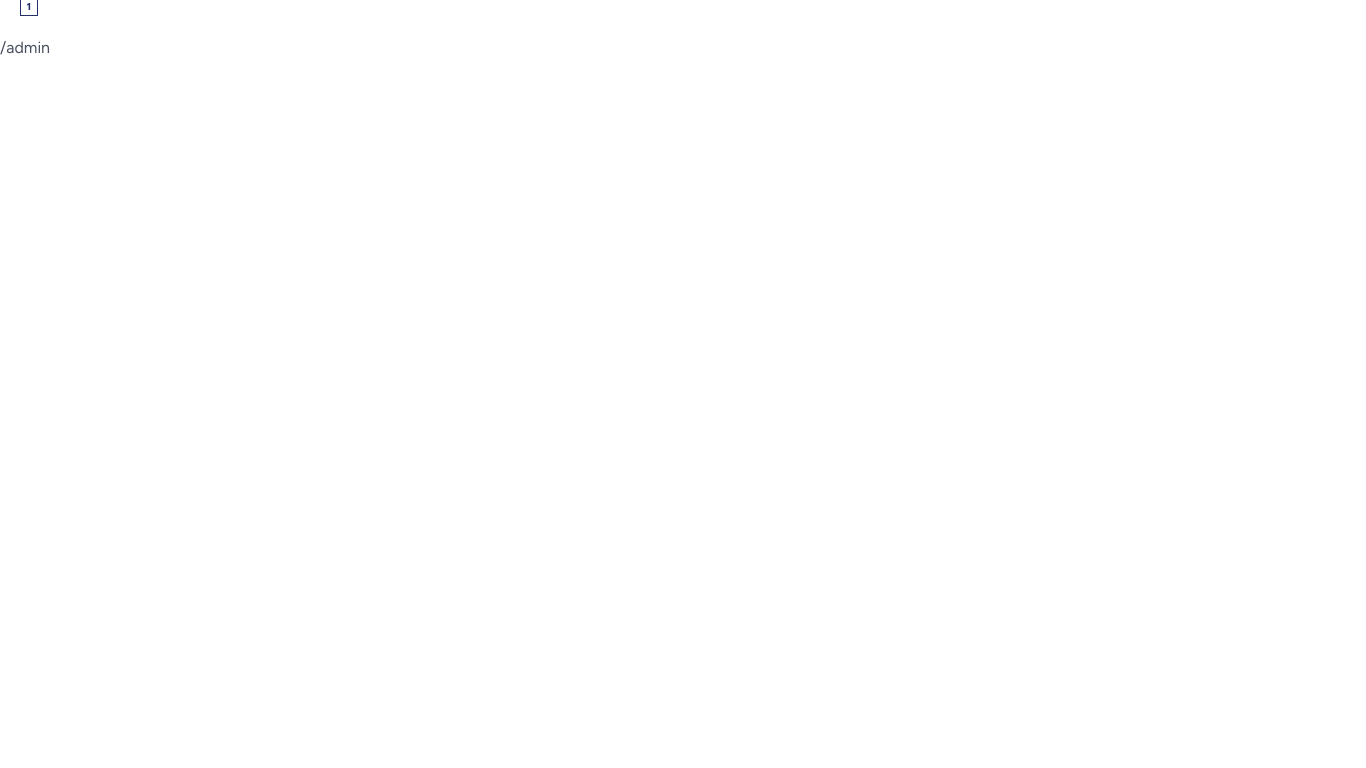
Scenario: NotificationBell › counts unread, and opening one marks it read and follows its link
Click the button named "Notifications, 1 unread".
click(18, 18)  # box [0,0,36,36]
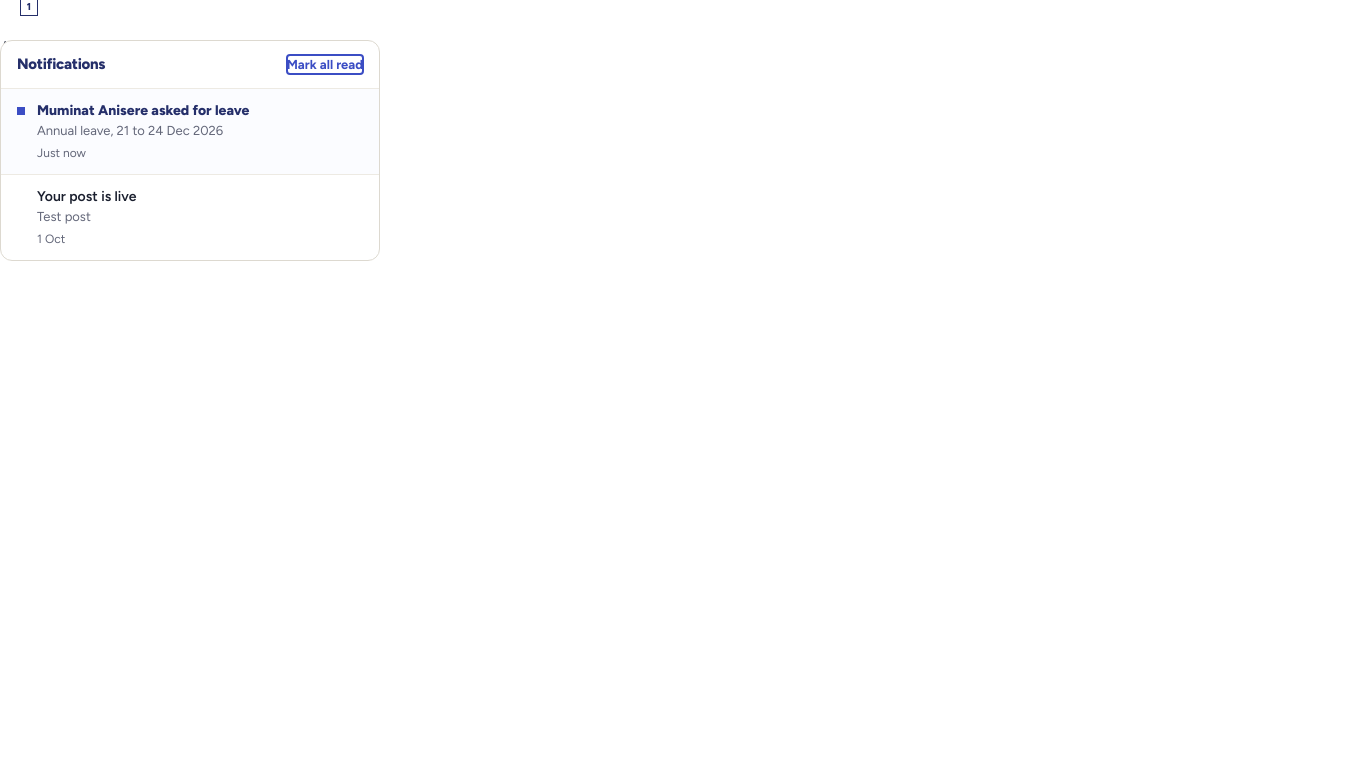
Click the text "Muminat Anisere asked for leave".
click(143, 110)  # box [37,100,249,120]
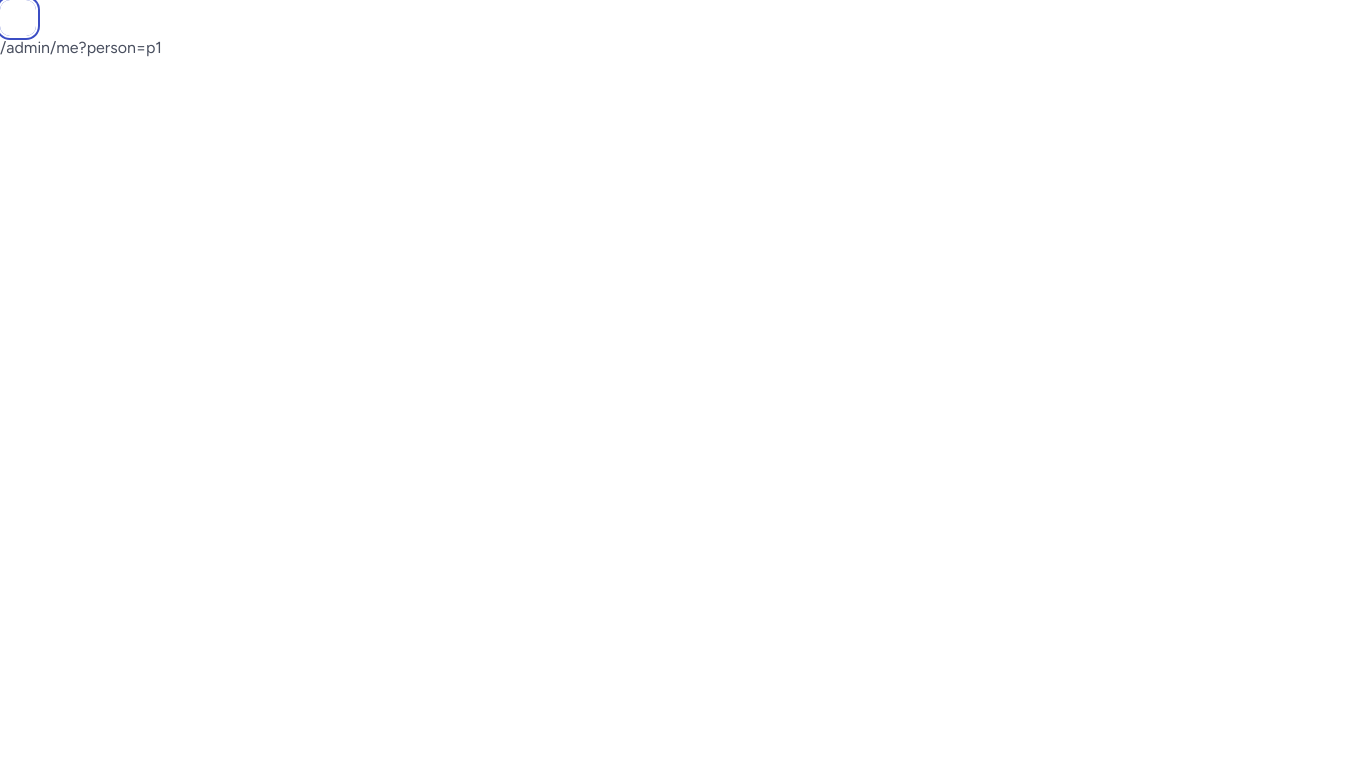
Check: the text with test id "where" reads "/admin/me?person=p1", box [0,38,162,57]
